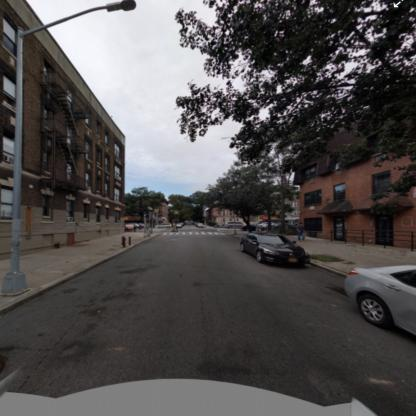Streetlights 1: (0, 0, 147, 336)
